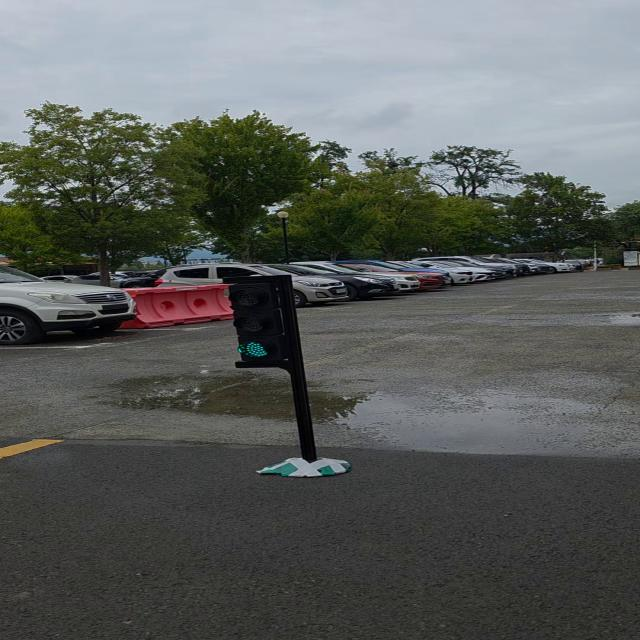green: (222, 276, 299, 368)
